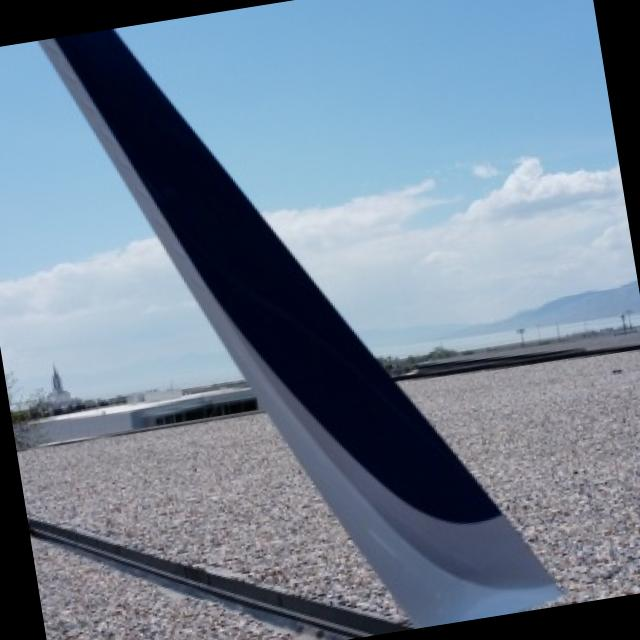healthy: (41, 29, 558, 627)
